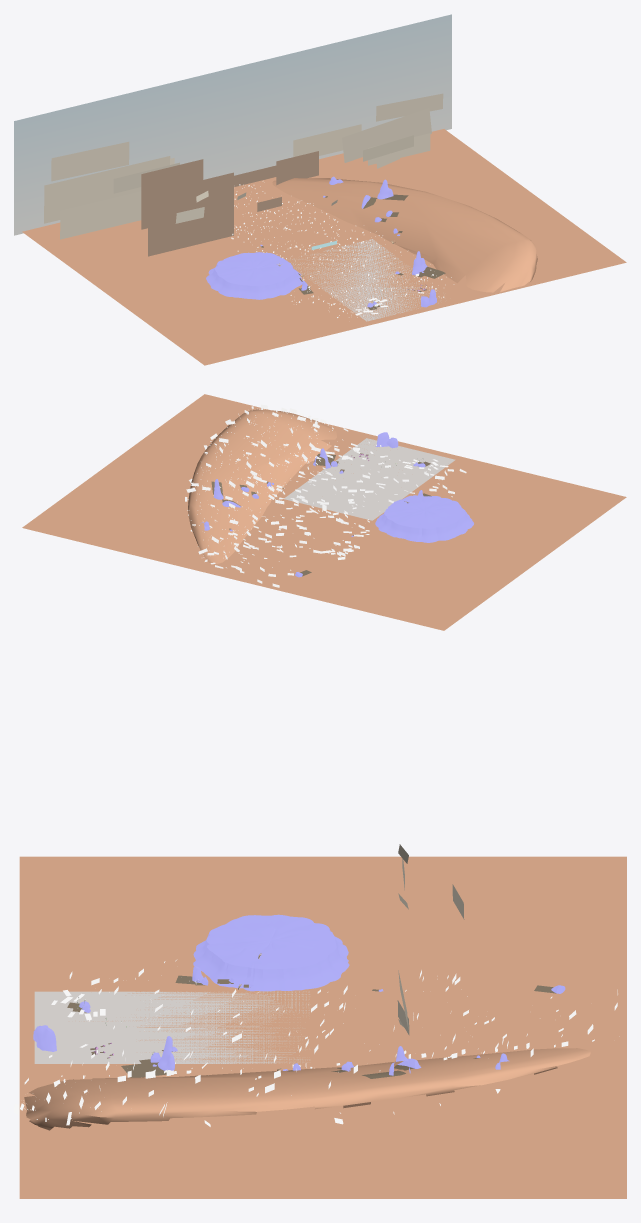
The picture shows the model from 3 angles, top to bottom: view 1: azimuth 30°, elevation 25°; view 2: azimuth 150°, elevation 25°; view 3: azimuth 270°, elevation 25°; orthographic projection. The views are drawn at different scales.
Visible parts, largest first — view 1: ground, sky, Clouds, Montains_3, picking_seed_flower, Rocks, Montains_2, Montains_1, grass, Shadows, Montains, rocks; view 2: ground, picking_seed_flower, grass, Rocks, Shadows; view 3: ground, picking_seed_flower, Rocks, grass, Shadows, Clouds.
Boxes of the visible parts, x1=… form: ground: x1=22, y1=129, x2=626, y2=365; sky: x1=14, y1=14, x2=451, y2=235; Clouds: x1=44, y1=93, x2=443, y2=239; Montains_3: x1=148, y1=172, x2=281, y2=256; picking_seed_flower: x1=290, y1=239, x2=438, y2=321; Rocks: x1=206, y1=176, x2=436, y2=307; Montains_2: x1=141, y1=159, x2=203, y2=229; Montains_1: x1=276, y1=151, x2=318, y2=185; grass: x1=231, y1=181, x2=454, y2=317; Shadows: x1=261, y1=194, x2=445, y2=309; Montains: x1=234, y1=165, x2=276, y2=186; rocks: x1=231, y1=184, x2=444, y2=317; ground: x1=22, y1=394, x2=626, y2=630; picking_seed_flower: x1=284, y1=438, x2=455, y2=520; grass: x1=185, y1=404, x2=466, y2=587; Rocks: x1=200, y1=432, x2=473, y2=577; Shadows: x1=211, y1=453, x2=431, y2=576; ground: x1=19, y1=856, x2=626, y2=1198; picking_seed_flower: x1=34, y1=991, x2=309, y2=1063; Rocks: x1=33, y1=914, x2=565, y2=1075; grass: x1=14, y1=959, x2=619, y2=1126; Shadows: x1=67, y1=975, x2=556, y2=1078; Clouds: x1=397, y1=844, x2=464, y2=1035.
Size of the model in its own units: 207 by 62.95 by 151.
